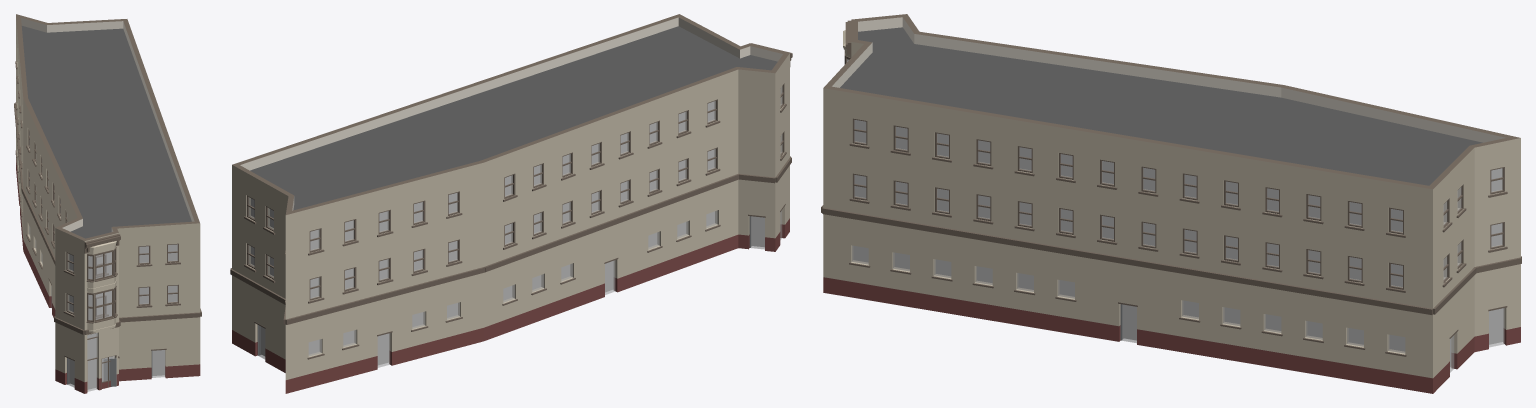
The model's file is exterior.glb.
3 renders of one model, left to right at view 1: azimuth 30°, elevation 25°; view 2: azimuth 150°, elevation 25°; view 3: azimuth 270°, elevation 25°, orthographic. The views are drawn at different scales.
Visible parts, largest first — view 1: shell, roof, shadow-proxy, trim, bay-glazing-hyb, glazing, frames, door-closures, bay-windows-hyb, storefront; view 2: shell, roof, glazing, trim, shadow-proxy, frames, door-closures; view 3: shell, roof, glazing, shadow-proxy, trim, frames, door-closures.
Part boxes in pixels (box(x1,y1,x2,y2)): shell: box(16, 14, 200, 393); roof: box(21, 26, 191, 238); shadow-proxy: box(69, 244, 177, 389); trim: box(14, 61, 201, 334); bay-glazing-hyb: box(86, 247, 117, 323); glazing: box(29, 132, 177, 381); frames: box(28, 129, 178, 316); door-closures: box(68, 350, 165, 391); bay-windows-hyb: box(87, 241, 116, 332); storefront: box(19, 176, 166, 391); shell: box(232, 14, 789, 393); roof: box(250, 26, 777, 210); glazing: box(248, 86, 782, 356); trim: box(230, 43, 792, 359); shadow-proxy: box(251, 101, 764, 364); frames: box(247, 83, 784, 300); door-closures: box(258, 211, 781, 367); shell: box(823, 14, 1520, 393); roof: box(840, 27, 1482, 185); glazing: box(852, 120, 1502, 353); shadow-proxy: box(853, 120, 1502, 366); trim: box(821, 20, 1521, 356); frames: box(852, 118, 1504, 289); door-closures: box(1120, 304, 1504, 372).
Size of the model in its own units: 21.9 by 11.79 by 36.6.
